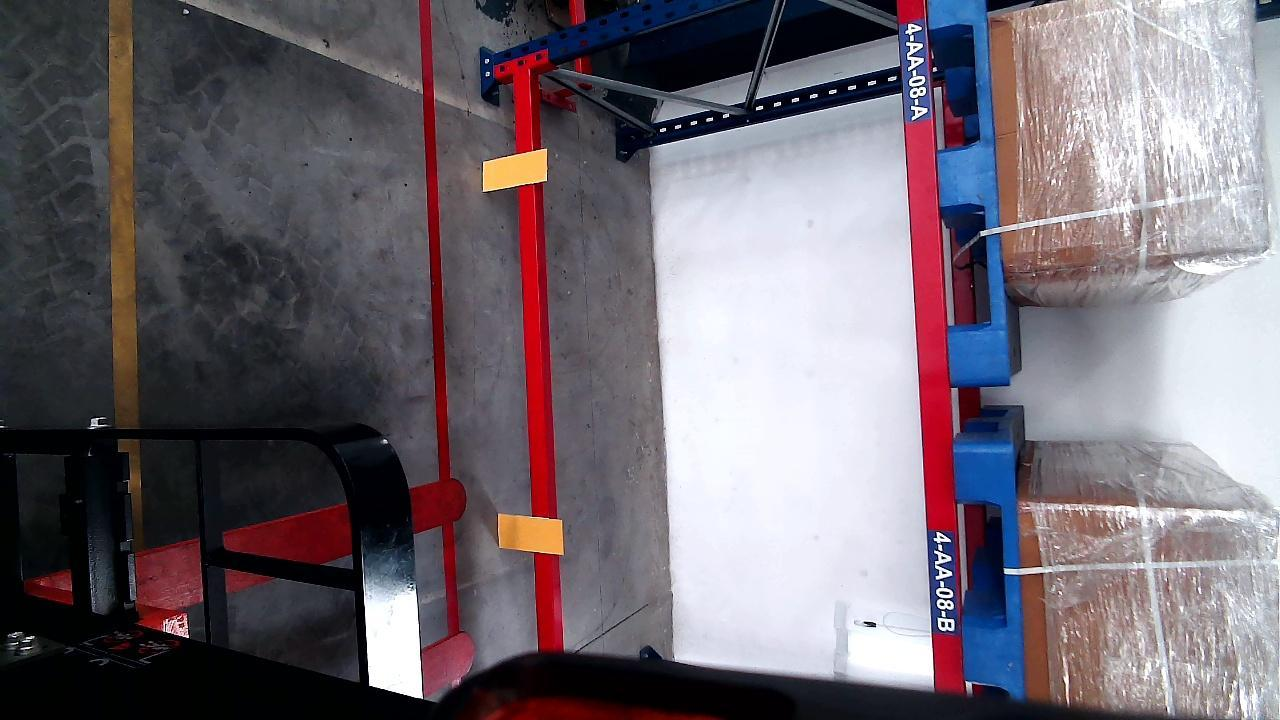red_line: (420, 2, 464, 642)
yellow_line: (109, 0, 139, 426)
